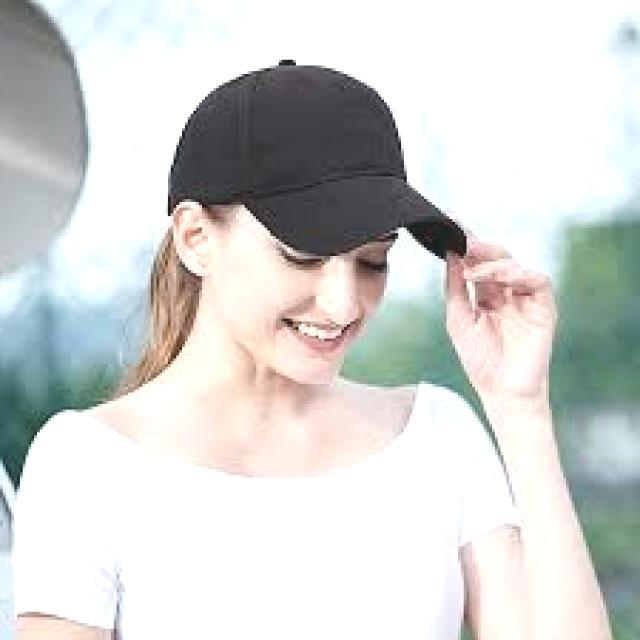cap: (140, 30, 484, 280)
